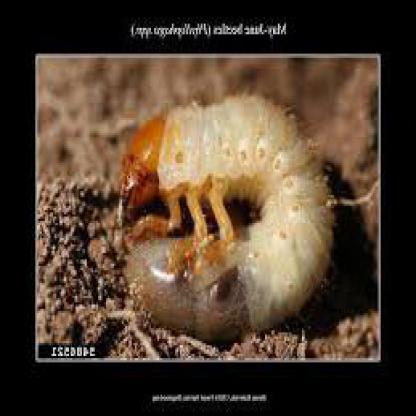root grubs: (115, 94, 337, 343)
